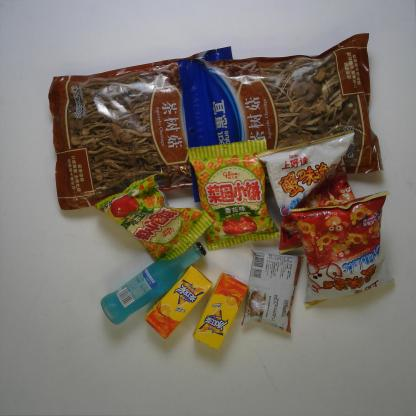Alcohol: (100, 242, 207, 325)
Dried Food: (177, 33, 384, 203), (48, 46, 233, 210)
Drink: (144, 264, 213, 340), (192, 271, 249, 350)
Puffed Food: (289, 190, 396, 308), (256, 129, 356, 254), (185, 138, 281, 252), (94, 174, 214, 262)
Seasoner: (241, 248, 304, 334)
